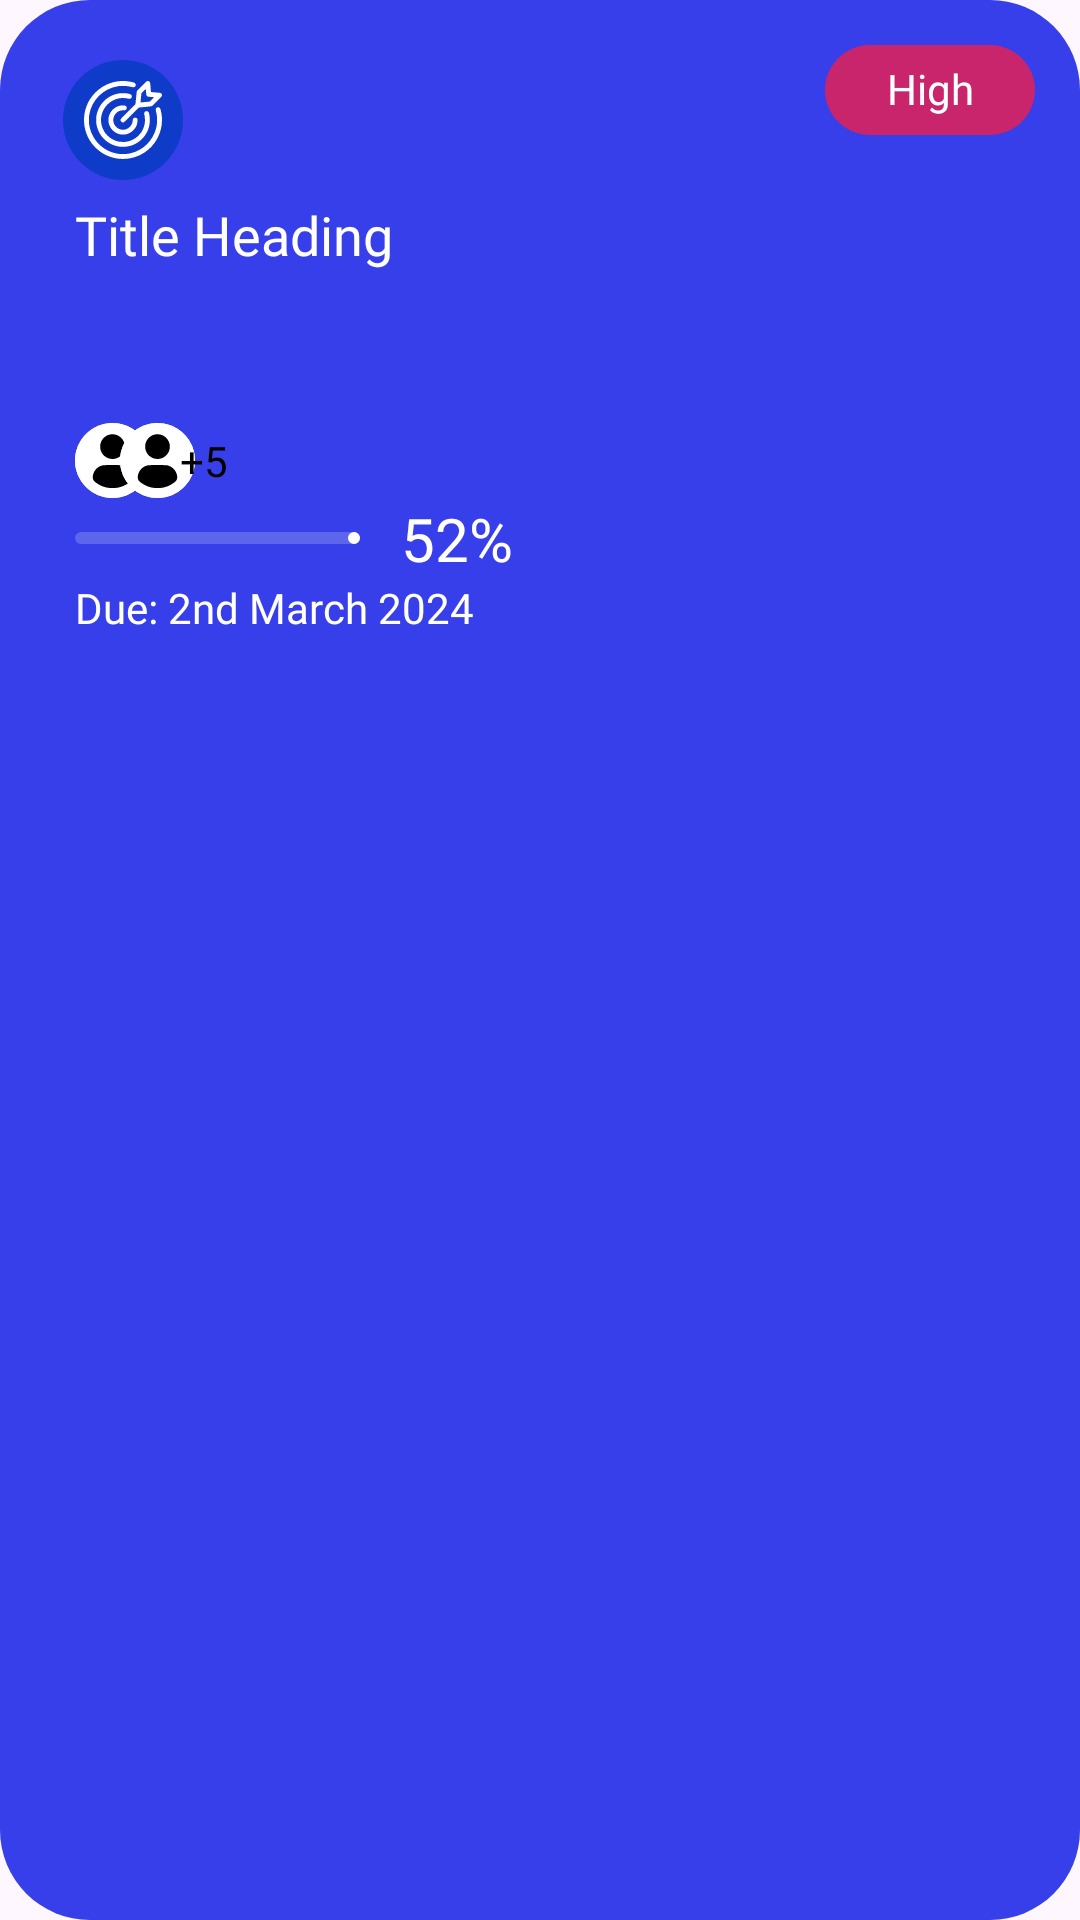

Named icons in this screenshot (1080px×1920px) and their centers, (x=x, y=y):
target: (x=123, y=120)
